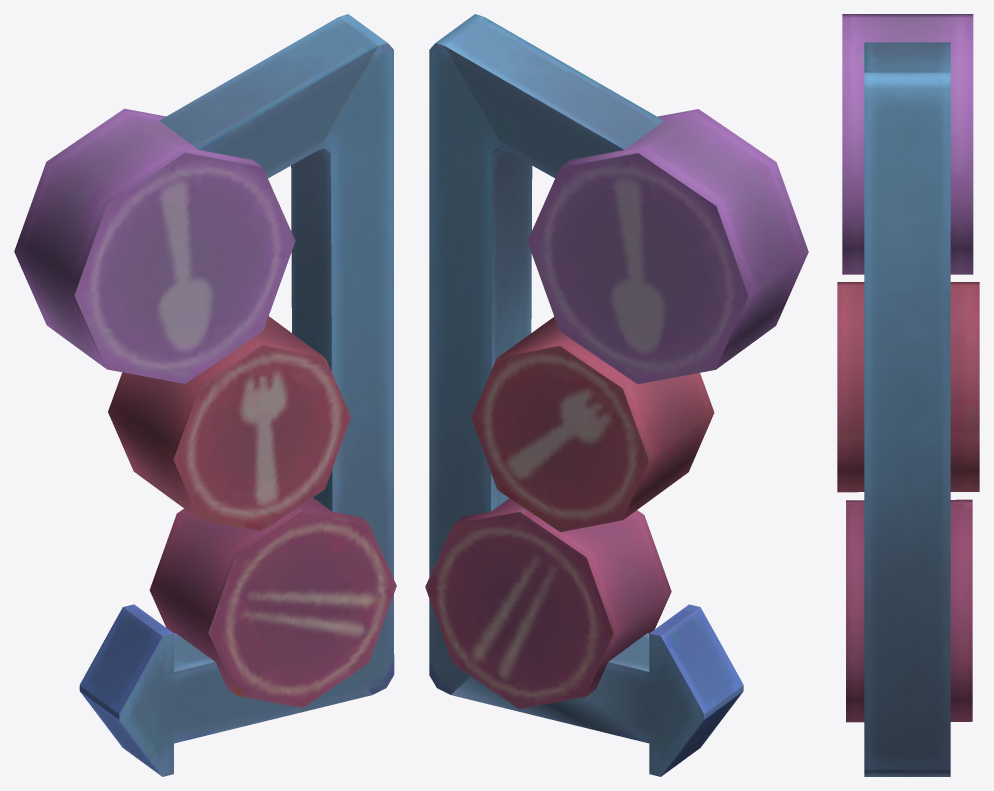
File: pref_sm_city_billboard09_lv3.fbx
3 renders of one model, left to right at view 1: azimuth 30°, elevation 25°; view 2: azimuth 150°, elevation 25°; view 3: azimuth 270°, elevation 25°, orthographic. The views are drawn at different scales.
Parts seen in each view (by area): view 1: pref_sm_city_billboard09_lv3; view 2: pref_sm_city_billboard09_lv3; view 3: pref_sm_city_billboard09_lv3.
Boxes of the visible parts, x1=… form: pref_sm_city_billboard09_lv3: x1=14, y1=14, x2=396, y2=776; pref_sm_city_billboard09_lv3: x1=425, y1=14, x2=808, y2=776; pref_sm_city_billboard09_lv3: x1=837, y1=14, x2=979, y2=776.
Size of the model in its own units: 1.95 by 3.83 by 0.6708.
